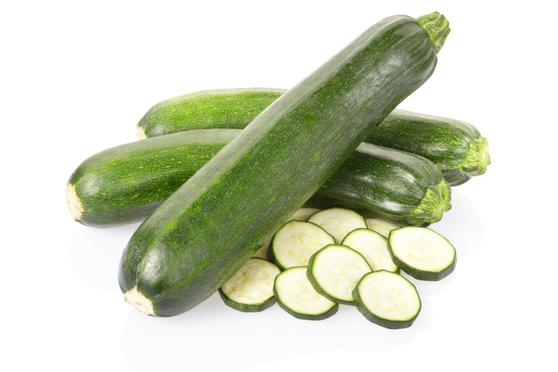zucchini: (111, 4, 459, 327)
